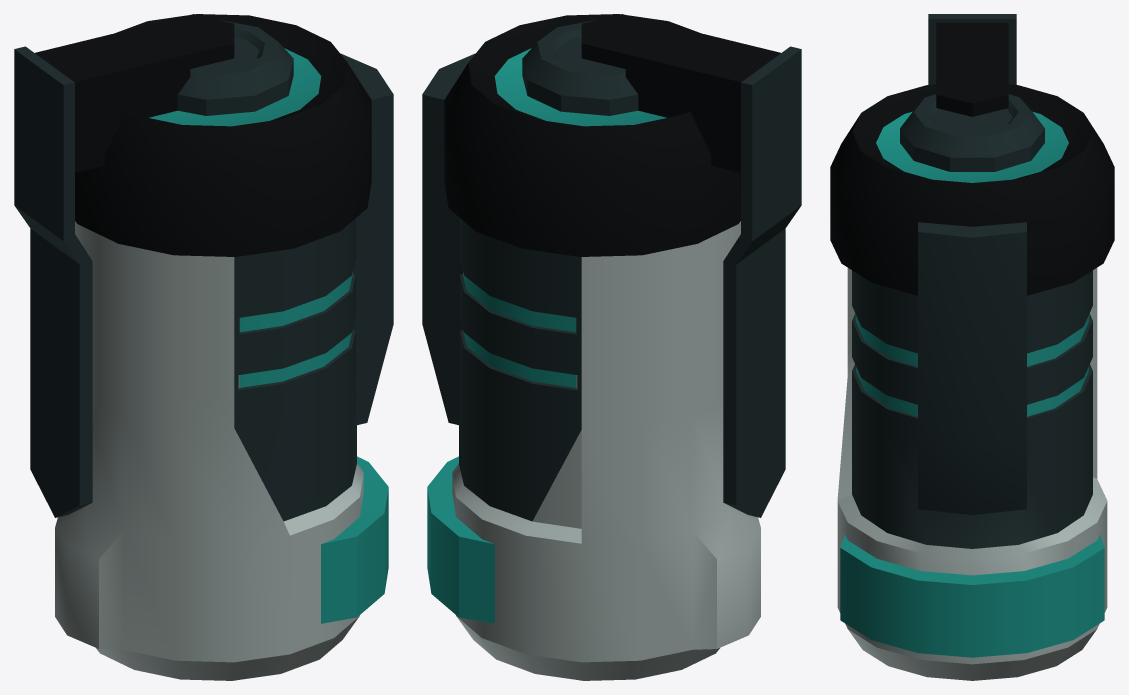
Rendered from orbit-drone.glb.
The picture shows the model from 3 angles, left to right: view 1: azimuth 30°, elevation 25°; view 2: azimuth 150°, elevation 25°; view 3: azimuth 270°, elevation 25°; orthographic projection. The views are drawn at different scales.
Visible parts, largest first — view 1: Grenade; view 2: Grenade; view 3: Grenade.
Boxes of the visible parts, x1=… form: Grenade: x1=14, y1=14, x2=393, y2=680; Grenade: x1=422, y1=14, x2=801, y2=680; Grenade: x1=830, y1=14, x2=1114, y2=680.
Bounding box in the file's own units: 0.1785 × 0.3033 × 0.1447.
